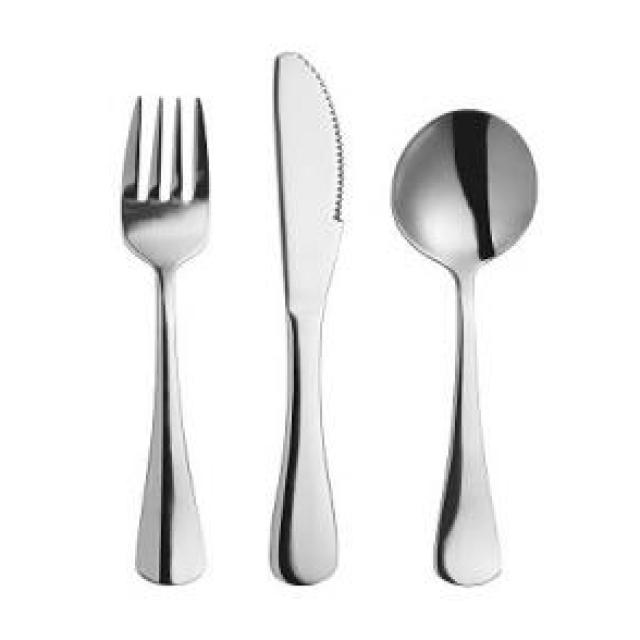knife: (259, 52, 351, 592)
